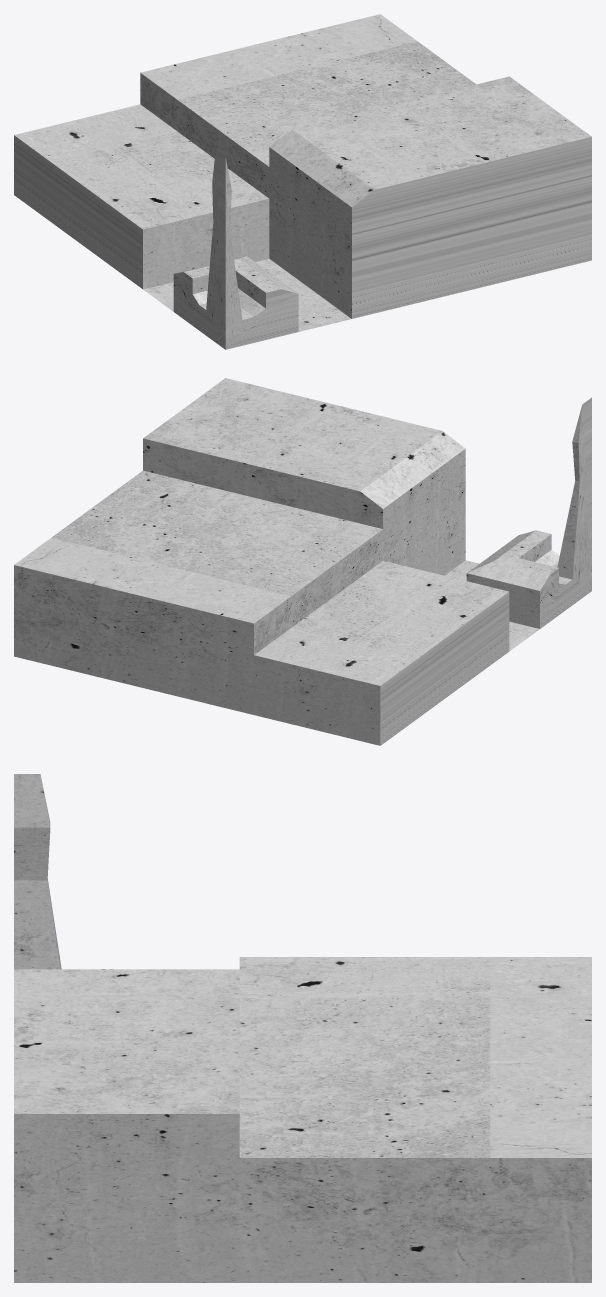
Rendered from fountaintile3glb.glb.
3 views of the same model, one above another, from view 1: azimuth 30°, elevation 25°; view 2: azimuth 150°, elevation 25°; view 3: azimuth 270°, elevation 25° (orthographic). The views are drawn at different scales.
Visible parts, largest first — view 1: Plane.003; view 2: Plane.003; view 3: Plane.003.
Part boxes in pixels (box(x1,y1,x2,y2)): Plane.003: box(14, 14, 591, 349); Plane.003: box(14, 378, 591, 745); Plane.003: box(14, 774, 591, 1282).
Size of the model in its own units: 2 by 1.01 by 2.
1 material, 1 textured.
